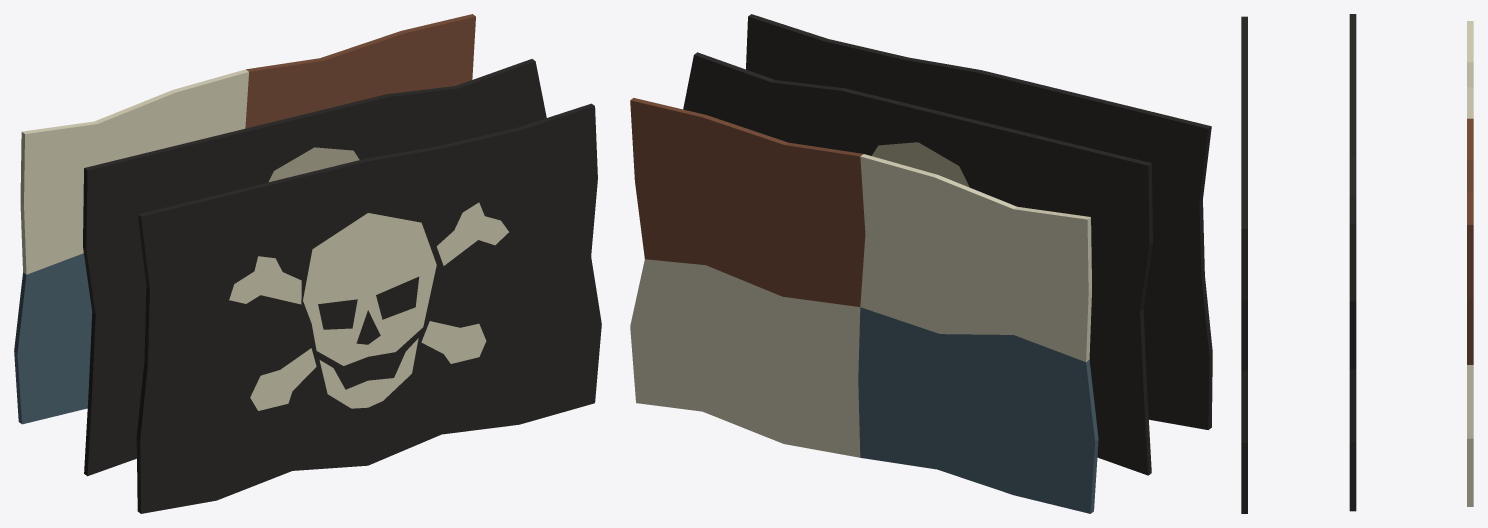
File: Flags.fbx
The picture shows the model from 3 angles, left to right: view 1: azimuth 30°, elevation 25°; view 2: azimuth 150°, elevation 25°; view 3: azimuth 270°, elevation 25°; orthographic projection. The views are drawn at different scales.
Parts seen in each view (by area): view 1: Flag_3, Flag_6, Flag_2; view 2: Flag_6, Flag_2, Flag_3; view 3: Flag_2, Flag_3, Flag_6.
Part boxes in pixels (x1,y1,x2,y2): Flag_3: [136, 103, 601, 513]; Flag_6: [14, 14, 475, 424]; Flag_2: [83, 59, 546, 476]; Flag_6: [630, 98, 1098, 513]; Flag_2: [683, 52, 1152, 475]; Flag_3: [746, 14, 1212, 429]; Flag_2: [1349, 14, 1356, 511]; Flag_3: [1241, 16, 1247, 513]; Flag_6: [1467, 21, 1473, 506].
Bounding box in the file's own units: 237 × 148 × 105.
